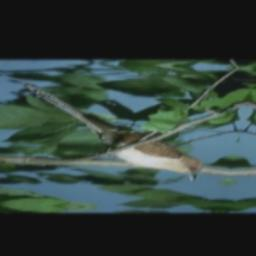Cuckoo: (0, 83, 226, 185)
